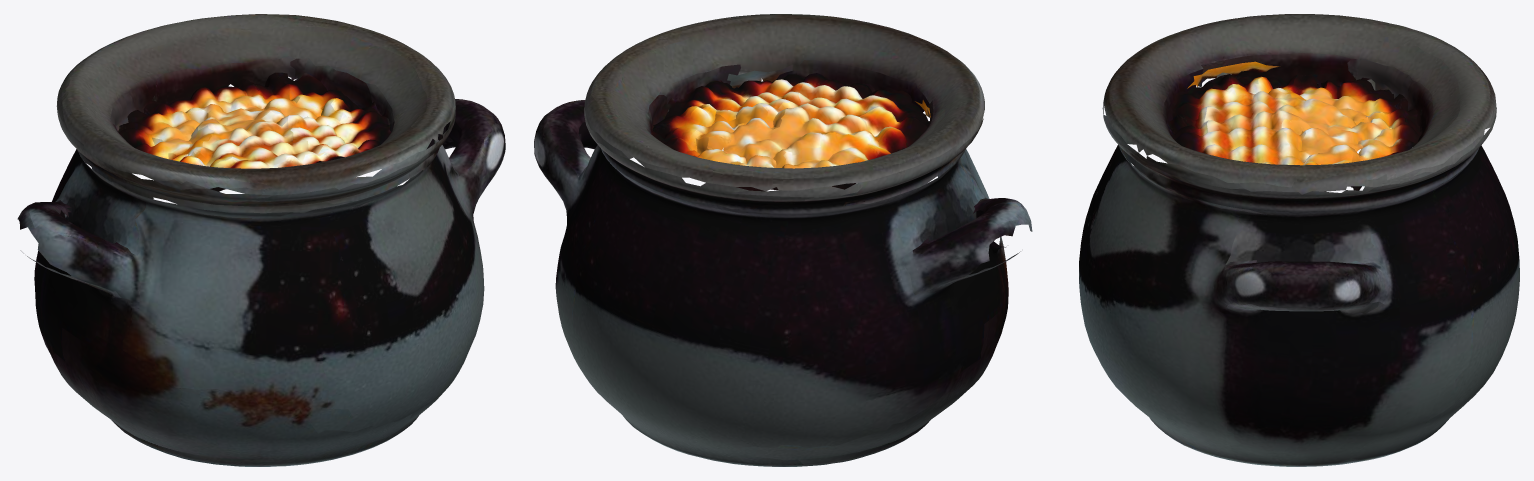
Rendered from lentil-pot.glb.
3 renders of one model, left to right at view 1: azimuth 30°, elevation 25°; view 2: azimuth 150°, elevation 25°; view 3: azimuth 270°, elevation 25°, orthographic.
Visible parts, largest first — view 1: pot; view 2: pot; view 3: pot.
Part boxes in pixels (<box>): pot: <box>17,14,505,466</box>; pot: <box>534,14,1032,466</box>; pot: <box>1079,14,1519,466</box>.
Size of the model in its own units: 1.22 by 0.7666 by 0.9913.
Materials: 1 (1 with a texture image).
